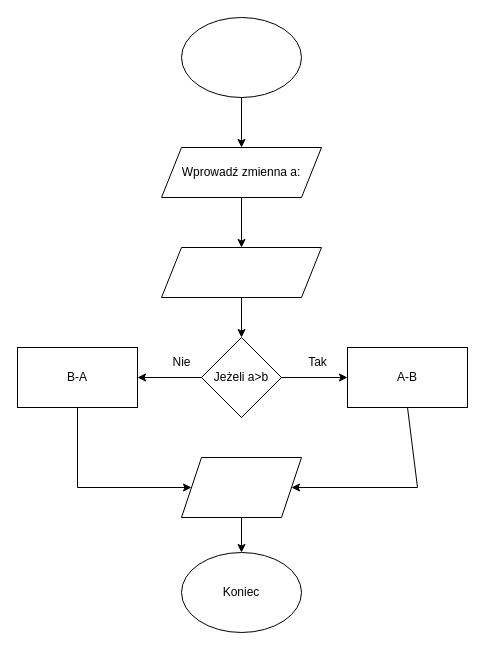
The diagram is 485 pixels wide and 650 high, and some of its shapes have lost their labels. Each missing label, with the centre of its shape:
"start" belongs at point 241,57.
"Wprowadź zmienna b:" belongs at point 241,272.
"Wyświetl wynik odejmowania" belongs at point 241,487.
